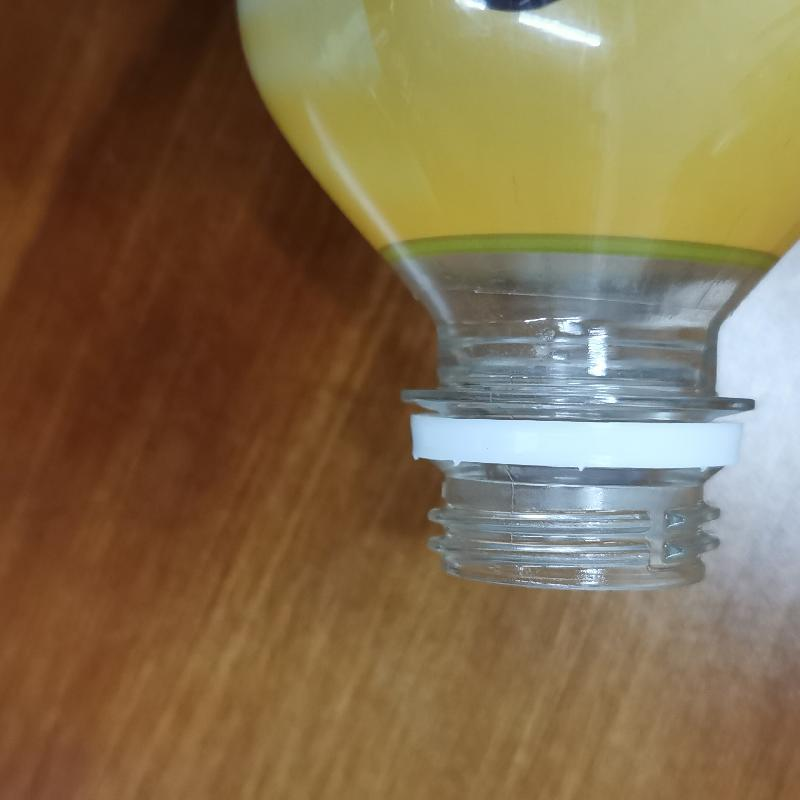bottles: (224, 6, 800, 588)
